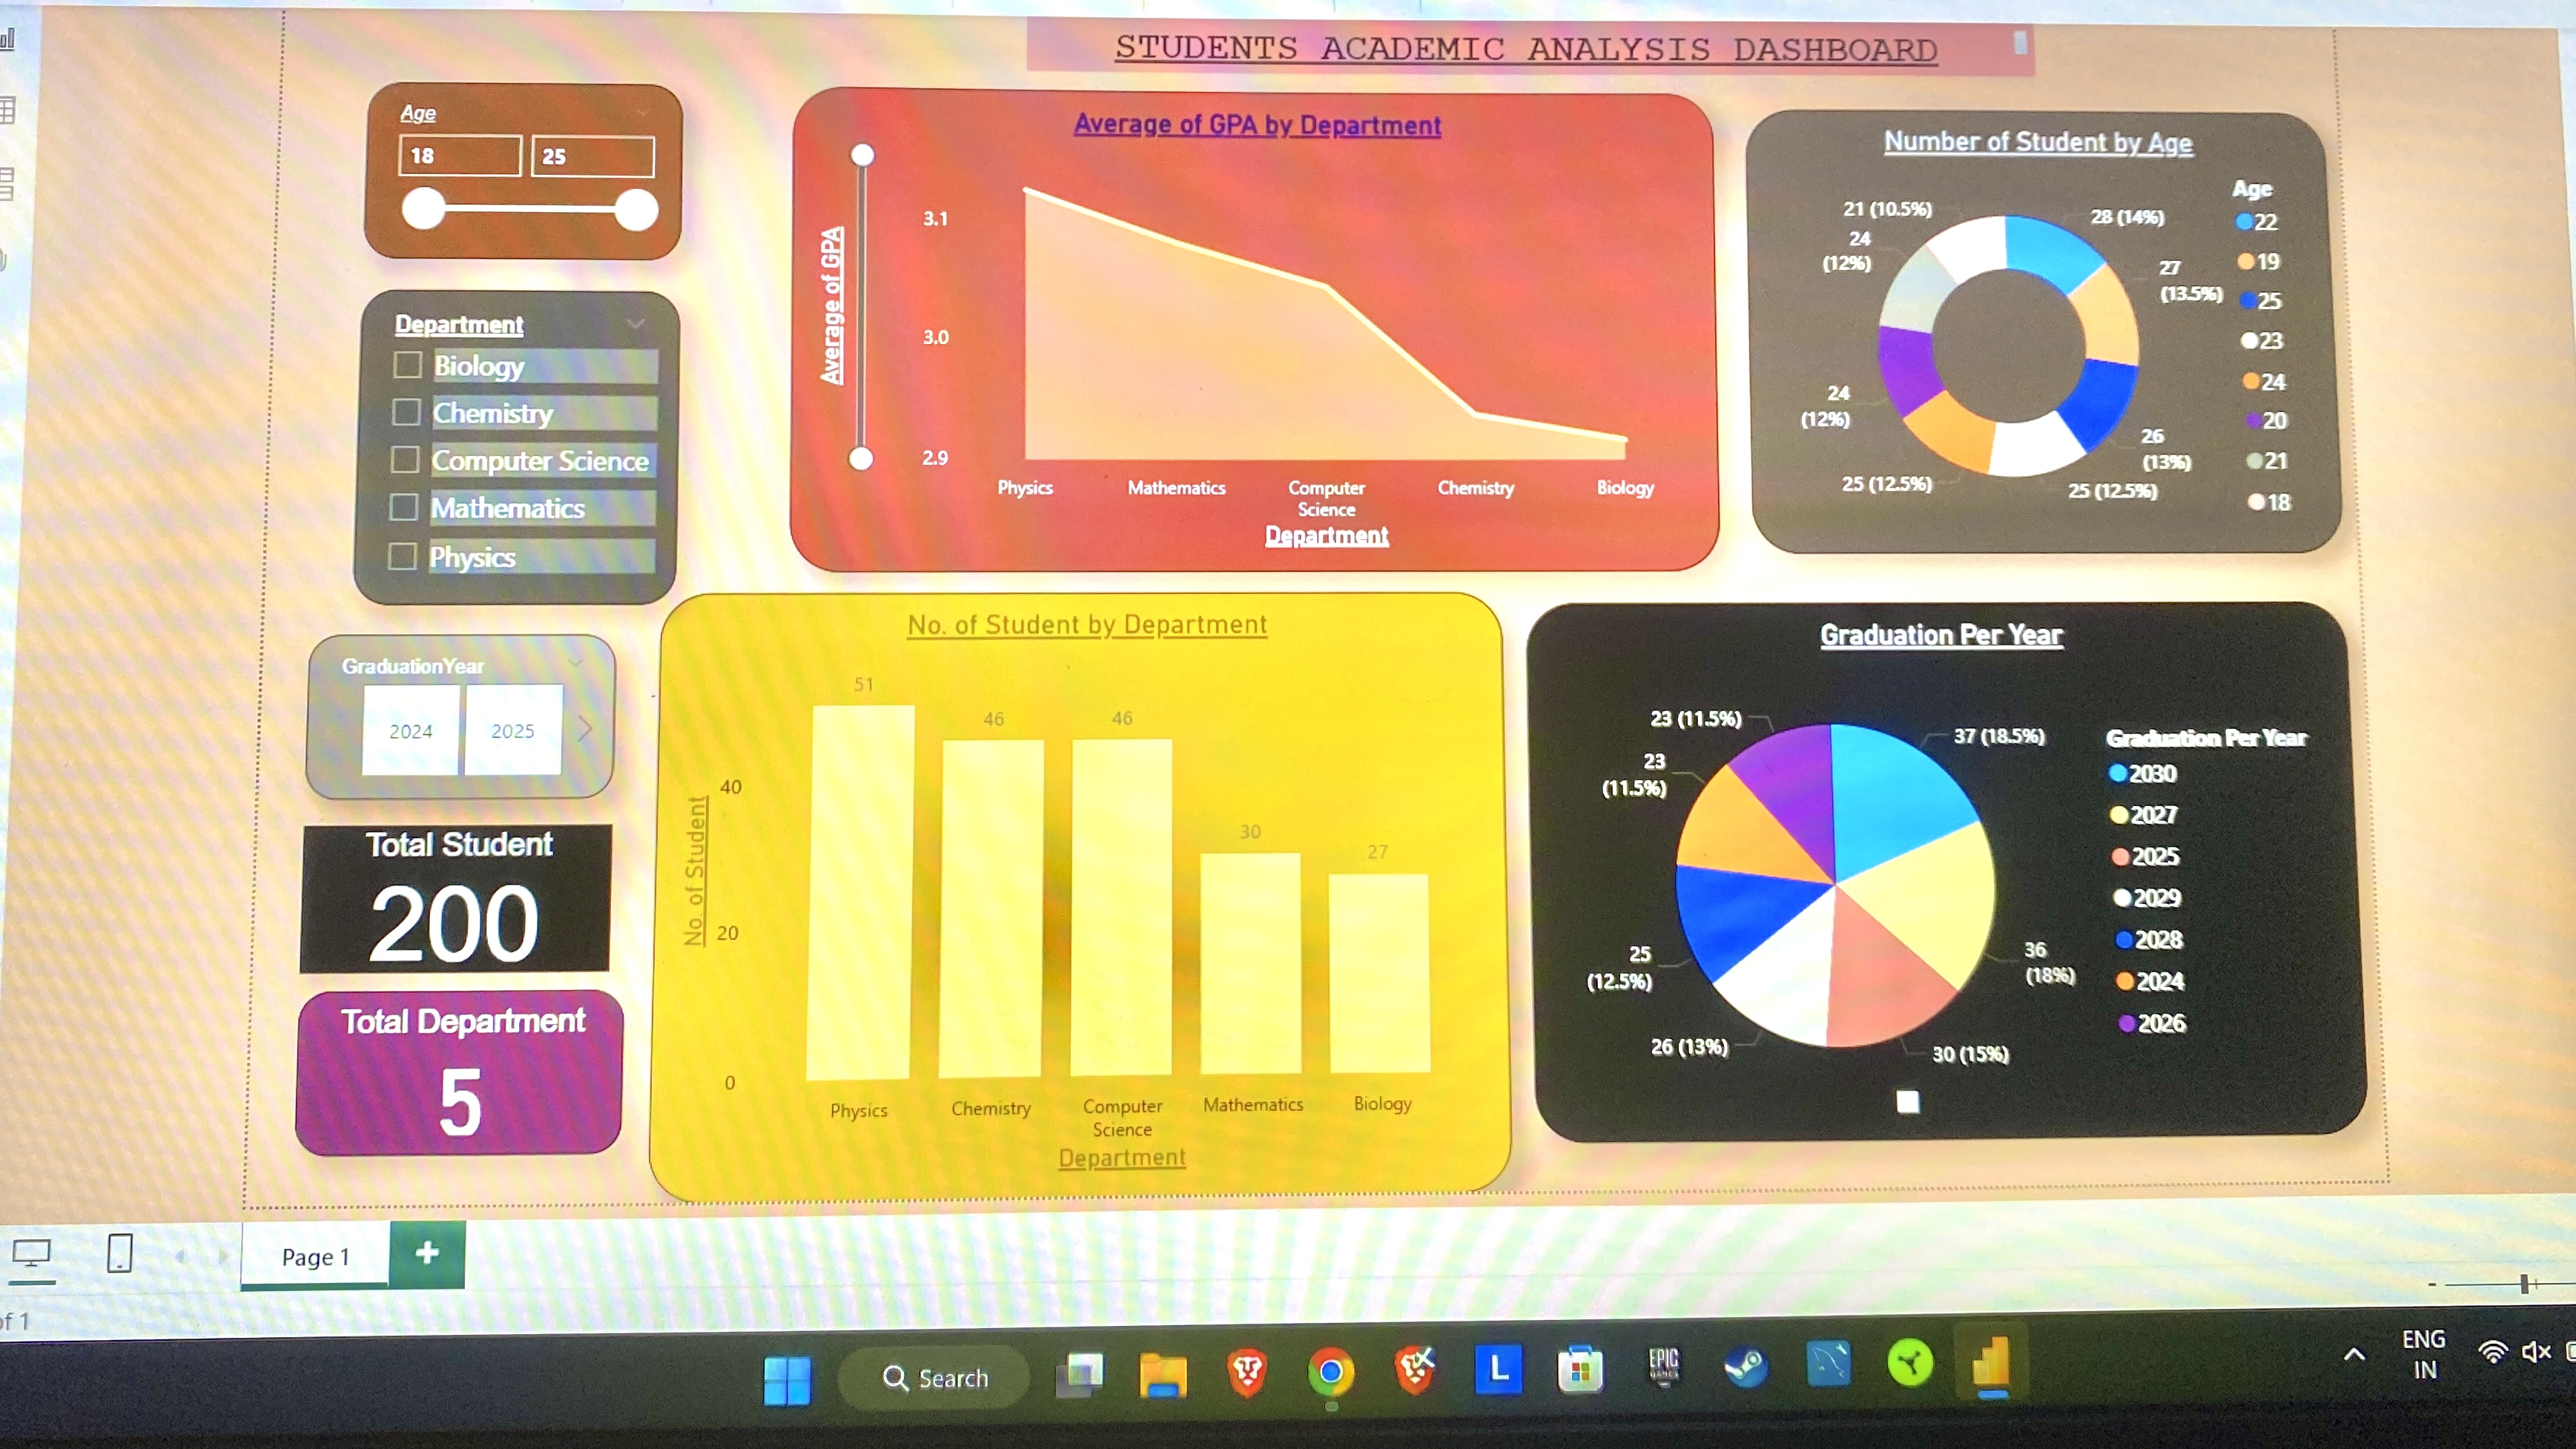

The page's visual inventory and layout, read from the dashboard file:
{"tool":"powerbi","page":{"name":"Page 1","canvas":[1280,720],"ordinal":0},"visuals":[{"type":"donutChart","title":"Number of Student by Age","fields":{"Category":["STUDENT.Age"],"Y":["CountNonNull(STUDENT.StudentID)"]},"box":[900.2,56.3,370.5,279.9],"z":0},{"type":"lineChart","fields":{"Category":["STUDENT.Department"],"Y":["Avg(STUDENT.GPA)"]},"box":[308.7,46.7,572.2,300.5],"z":1},{"type":"clusteredColumnChart","title":"No. of Student by Department","fields":{"Category":["STUDENT.Department"],"Y":["CountNonNull(STUDENT.StudentID)"]},"box":[233.3,359.5,511.8,360.9],"z":2},{"type":"pieChart","title":" Graduation Per Year","fields":{"Category":["STUDENT.GraduationYear"],"Y":["CountNonNull(STUDENT.StudentID)"]},"box":[760.2,366.4,510.5,325.2],"z":3},{"type":"textbox","box":[979.8,662.8,12.3,12.3],"z":4},{"type":"textbox","box":[451.5,0,634,34.3],"z":5},{"type":"slicer","fields":{"Values":["STUDENT.Age"]},"box":[52.1,46.7,190.7,109.8],"z":6},{"type":"slicer","fields":{"Values":["STUDENT.Department"]},"box":[52.1,174.3,190.7,192.1],"z":7},{"type":"slicer","fields":{"Values":["STUDENT.GraduationYear"]},"box":[27.4,384.2,181.1,98.8],"z":8},{"type":"card","title":"Total Student","fields":{"Values":["CountNonNull(STUDENT.StudentID)"]},"box":[27.4,498.1,181.1,86.4],"z":9},{"type":"card","title":"Total Department","fields":{"Values":["Count(STUDENT.Department)"]},"box":[27.4,595.5,190.7,96.1],"z":10}]}

Visuals, with their boxes on the page's 1280x720 design canvas (x1, y1, x2, y2). These are canvas units, not pixel positions in the 2576x1449 screenshot, which may show the page scaled, cropped or inside an application window:
"Number of Student by Age" donutChart: <bbox>900, 56, 1271, 336</bbox>
lineChart - STUDENT.Department x Avg(STUDENT.GPA): <bbox>309, 47, 881, 347</bbox>
"No. of Student by Department" clusteredColumnChart: <bbox>233, 360, 745, 720</bbox>
" Graduation Per Year" pieChart: <bbox>760, 366, 1271, 692</bbox>
textbox: <bbox>980, 663, 992, 675</bbox>
textbox: <bbox>452, 0, 1086, 34</bbox>
slicer - STUDENT.Age: <bbox>52, 47, 243, 156</bbox>
slicer - STUDENT.Department: <bbox>52, 174, 243, 366</bbox>
slicer - STUDENT.GraduationYear: <bbox>27, 384, 208, 483</bbox>
"Total Student" card: <bbox>27, 498, 208, 584</bbox>
"Total Department" card: <bbox>27, 596, 218, 692</bbox>
